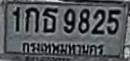1: (12, 6, 19, 31)
2: (91, 8, 104, 34)
5: (106, 9, 120, 34)
8: (78, 8, 89, 33)
9: (63, 8, 75, 32)
A01: (25, 6, 38, 32)
A24: (42, 7, 57, 32)
BKK: (20, 40, 106, 58)
